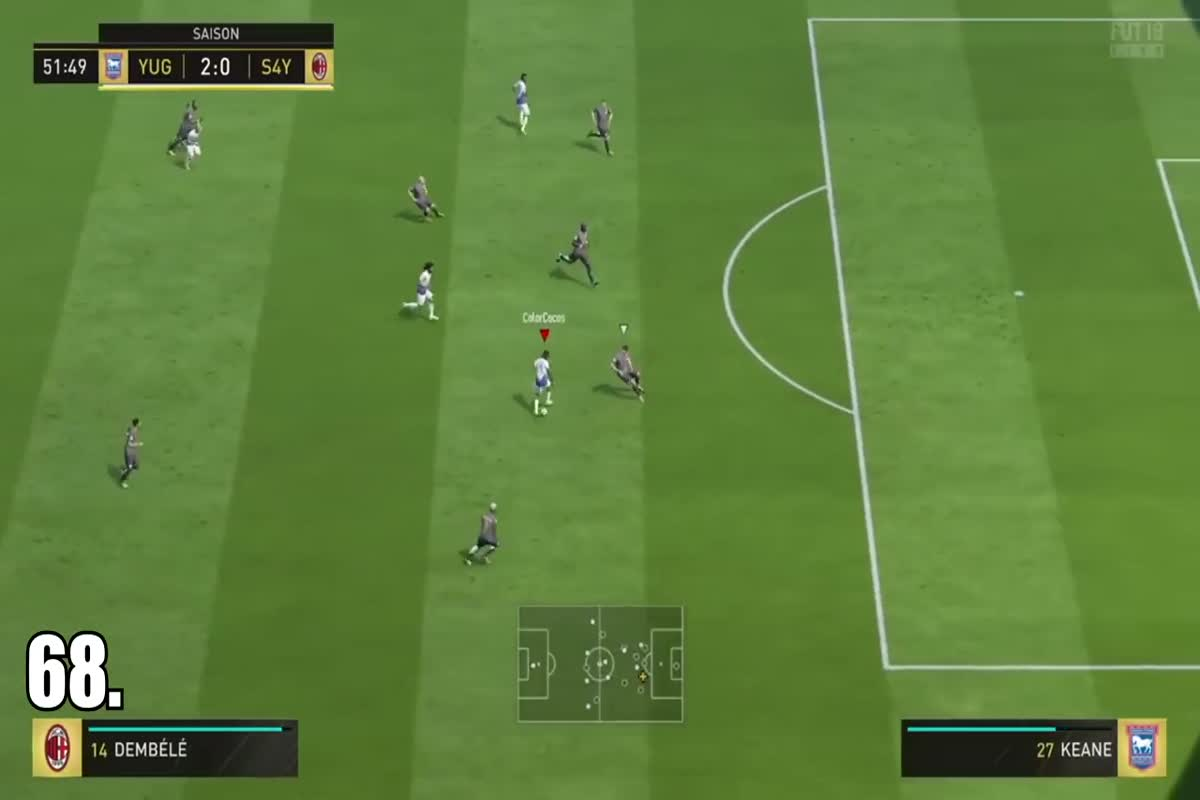ball: (534, 403, 555, 426)
